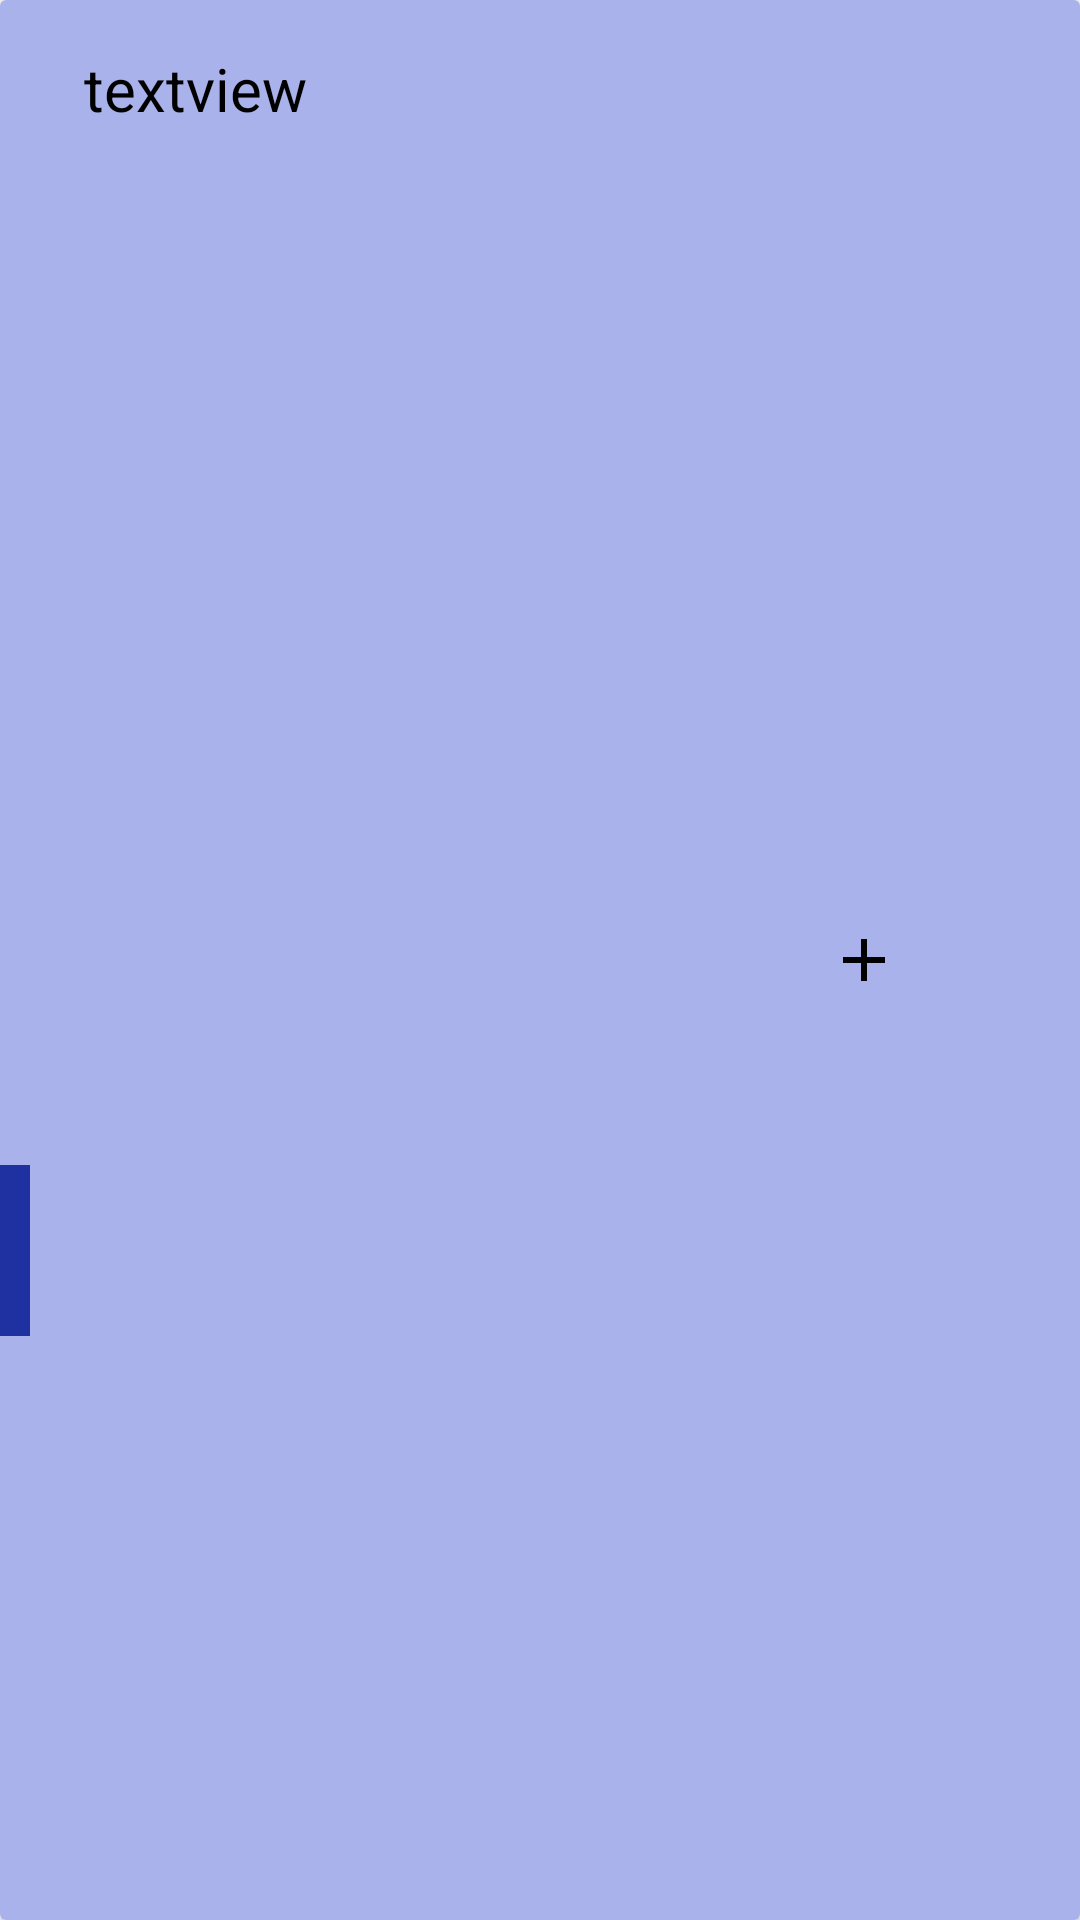

Icons on this 1080×1920 Android screen, each with the point to tap as point (x, y):
add: point (864, 960)
